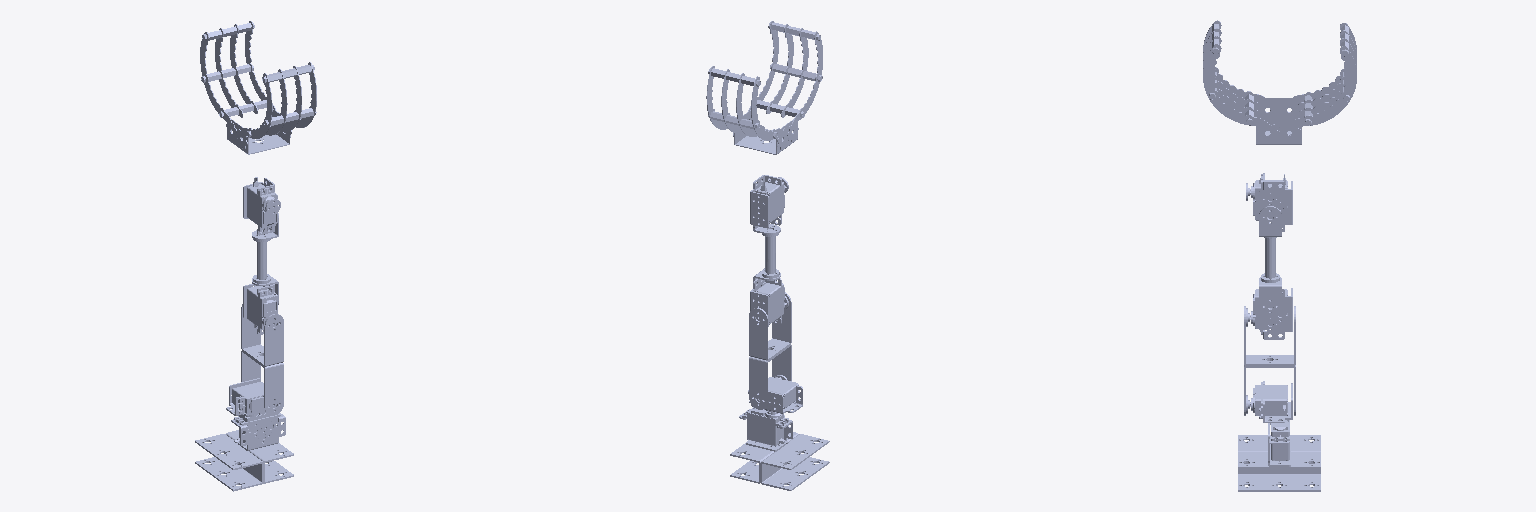
URDF robot description (reclaim_arm):
<?xml version="1.0" encoding="utf-8"?>
<!-- This URDF was automatically created by SolidWorks to URDF Exporter! Originally created by Stephen Brawner (brawner@gmail.com) 
     Commit Version: 1.6.0-4-g7f85cfe  Build Version: 1.6.7995.38578
     For more information, please see http://wiki.ros.org/sw_urdf_exporter -->
<robot
  name="reclaim_arm">
  <link
    name="base_link">
    <inertial>
      <origin
        xyz="0.00060581 -0.001246 -0.046464"
        rpy="0 0 0" />
      <mass
        value="0.07337" />
      <inertia
        ixx="3.2568E-05"
        ixy="5.8892E-09"
        ixz="3.9477E-08"
        iyy="1.9034E-05"
        iyz="1.6679E-07"
        izz="3.754E-05" />
    </inertial>
    <visual>
      <origin
        xyz="0 0 0"
        rpy="-1.5708 0 0" />
      <geometry>
        <mesh
          filename="package://reclaim_arm_moveit_config/meshes/base_link.STL" />
      </geometry>
      <material
        name="">
        <color
          rgba="0.79216 0.81961 0.93333 1" />
      </material>
    </visual>
    <collision>
      <origin
        xyz="0 0 0"
        rpy="-1.5708 0 0" />
      <geometry>
        <mesh
          filename="package://reclaim_arm_moveit_config/meshes/base_link.STL" />
      </geometry>
    </collision>
  </link>
  <link
    name="shoulder_link">
    <inertial>
      <origin
        xyz="0.00046002 -0.0098996 0.01241"
        rpy="0 0 0" />
      <mass
        value="0.037034" />
      <inertia
        ixx="2.9036E-06"
        ixy="3.9477E-08"
        ixz="-8.9959E-13"
        iyy="6.9967E-06"
        iyz="-1.6679E-07"
        izz="7.2467E-06" />
    </inertial>
    <visual>
      <origin
        xyz="0 0 0"
        rpy="0 0 0" />
      <geometry>
        <mesh
          filename="package://reclaim_arm_moveit_config/meshes/shoulder_link.STL" />
      </geometry>
      <material
        name="">
        <color
          rgba="0.79216 0.81961 0.93333 1" />
      </material>
    </visual>
    <collision>
      <origin
        xyz="0 0 0"
        rpy="0 0 0" />
      <geometry>
        <mesh
          filename="package://reclaim_arm_moveit_config/meshes/shoulder_link.STL" />
      </geometry>
    </collision>
  </link>
  <joint
    name="base_joint"
    type="revolute">
    <origin
      xyz="0 0 0"
      rpy="0 0 0" />
    <parent
      link="base_link" />
    <child
      link="shoulder_link" />
    <axis
      xyz="0 0 1" />
    <limit
      lower="-1.953"
      upper="3.230"
      effort="10"
      velocity="2" />
  </joint>
  <link
    name="upper_arm_link">
    <inertial>
      <origin
        xyz="1.3297E-14 -0.011444 0.052"
        rpy="0 0 0" />
      <mass
        value="0.016627" />
      <inertia
        ixx="1.6412E-05"
        ixy="1.486E-19"
        ixz="-6.5645E-21"
        iyy="7.5576E-06"
        iyz="-3.0563E-21"
        izz="1.0611E-05" />
    </inertial>
    <visual>
      <origin
        xyz="0 0 0"
        rpy="0 0 0" />
      <geometry>
        <mesh
          filename="package://reclaim_arm_moveit_config/meshes/upper_arm_link.STL" />
      </geometry>
      <material
        name="">
        <color
          rgba="0.79216 0.81961 0.93333 1" />
      </material>
    </visual>
    <collision>
      <origin
        xyz="0 0 0"
        rpy="0 0 0" />
      <geometry>
        <mesh
          filename="package://reclaim_arm_moveit_config/meshes/upper_arm_link.STL" />
      </geometry>
    </collision>
  </link>
  <joint
    name="shoulder_joint"
    type="revolute">
    <origin
      xyz="0.01 0 0.013402"
      rpy="0 0 0" />
    <parent
      link="shoulder_link" />
    <child
      link="upper_arm_link" />
    <axis
      xyz="0 -1 0" />
    <limit
      lower="-2.073"
      upper="1.597"
      effort="15"
      velocity="2" />
  </joint>
  <link
    name="forearm_link">
    <inertial>
      <origin
        xyz="0.0013458 -0.010048 0.074887"
        rpy="0 0 0" />
      <mass
        value="0.087067" />
      <inertia
        ixx="1.827E-05"
        ixy="3.3358E-07"
        ixz="1.6198E-12"
        iyy="1.7804E-05"
        iyz="7.3166E-16"
        izz="6.5989E-06" />
    </inertial>
    <visual>
      <origin
        xyz="0 0 0"
        rpy="0 0 0" />
      <geometry>
        <mesh
          filename="package://reclaim_arm_moveit_config/meshes/forearm_link.STL" />
      </geometry>
      <material
        name="">
        <color
          rgba="0.79216 0.81961 0.93333 1" />
      </material>
    </visual>
    <collision>
      <origin
        xyz="0 0 0"
        rpy="0 0 0" />
      <geometry>
        <mesh
          filename="package://reclaim_arm_moveit_config/meshes/forearm_link.STL" />
      </geometry>
    </collision>
  </link>
  <joint
    name="elbow_joint"
    type="revolute">
    <origin
      xyz="0 0 0.104"
      rpy="0 0 0" />
    <parent
      link="upper_arm_link" />
    <child
      link="forearm_link" />
    <axis
      xyz="0 1 0" />
    <limit
      lower="-1.508"
      upper="2.497"
      effort="10"
      velocity="2" />
  </joint>
  <link
    name="wrist_pitch_link">
    <inertial>
      <origin
        xyz="-0.024668 -0.011695 0.043013"
        rpy="0 0 0" />
      <mass
        value="0.10081" />
      <inertia
        ixx="5.5279E-05"
        ixy="-1.5687E-07"
        ixz="3.235E-09"
        iyy="2.0779E-05"
        iyz="-5.646E-08"
        izz="6.76E-05" />
    </inertial>
    <visual>
      <origin
        xyz="0 0 0"
        rpy="0 0 0" />
      <geometry>
        <mesh
          filename="package://reclaim_arm_moveit_config/meshes/wrist_pitch_link.STL" />
      </geometry>
      <material
        name="">
        <color
          rgba="0.79216 0.81961 0.93333 1" />
      </material>
    </visual>
    <collision>
      <origin
        xyz="0 0 0"
        rpy="0 0 0" />
      <geometry>
        <mesh
          filename="package://reclaim_arm_moveit_config/meshes/wrist_pitch_link.STL" />
      </geometry>
    </collision>
  </link>
  <joint
    name="wrist_pitch_joint"
    type="revolute">
    <origin
      xyz="0 0 0.15032"
      rpy="0 0 0" />
    <parent
      link="forearm_link" />
    <child
      link="wrist_pitch_link" />
    <axis
      xyz="0 -1 0" />
    <limit
      lower="-1.932"
      upper="0.872"
      effort="10"
      velocity="2" />
  </joint>
  <link
    name="tool0">
    <inertial>
      <origin
        xyz="0.010754 -0.0010765 0.39245"
        rpy="0 0 0" />
      <mass
        value="0.037311" />
      <inertia
        ixx="2.0211E-05"
        ixy="-2.8835E-08"
        ixz="1.8401E-08"
        iyy="1.638E-05"
        iyz="-1.2682E-07"
        izz="1.1617E-05" />
    </inertial>
    <visual>
      <origin
        xyz="-0.01 0 -0.45672"
        rpy="0 0 0" />
      <geometry>
        <mesh
          filename="package://reclaim_arm_moveit_config/meshes/tool0.STL" />
      </geometry>
      <material
        name="">
        <color
          rgba="0.79216 0.81961 0.93333 1" />
      </material>
    </visual>
    <collision>
      <origin
        xyz="-0.01 0 -0.45672"
        rpy="0 0 0" />
      <geometry>
        <mesh
          filename="package://reclaim_arm_moveit_config/meshes/tool0.STL" />
      </geometry>
    </collision>
  </link>
  <joint
    name="wrist_to_tool0"
    type="fixed">
    <origin
      xyz="0 0 0.189"
      rpy="0 0 0" />
    <parent
      link="wrist_pitch_link" />
    <child
      link="tool0" />
    <axis
      xyz="0 0 0" />
  </joint>
  <!-- ══════════════════════════════════════════════════ -->
  <!-- ros2_control: Servo Hardware Interface            -->
  <!-- Calibration from March 19, 2026                   -->
  <!-- ══════════════════════════════════════════════════ -->
  <ros2_control name="servo_hardware" type="system">
    <hardware>
      <plugin>reclaim_servo_hardware/ServoHardwareInterface</plugin>
      <param name="serial_port">/tmp/teensy_arm</param>
      <param name="baud_rate">115200</param>
    </hardware>

    <!-- J1 Base — DS3218 270° — not inverted -->
    <joint name="base_joint">
      <command_interface name="position"/>
      <state_interface name="position"/>
      <param name="zero_us">1229</param>
      <param name="scale">0.002356</param>
      <param name="inverted">false</param>
      <param name="min_us">400</param>
      <param name="max_us">2600</param>
    </joint>

    <!-- J2 Shoulder — DS3240 270° — not inverted (axis 0 -1 0) -->
    <joint name="shoulder_joint">
      <command_interface name="position"/>
      <state_interface name="position"/>
      <param name="zero_us">1673</param>
      <param name="scale">0.002356</param>
      <param name="inverted">false</param>
      <param name="min_us">995</param>
      <param name="max_us">2553</param>
    </joint>

    <!-- J3 Elbow — DS3218 270° — not inverted -->
    <joint name="elbow_joint">
      <command_interface name="position"/>
      <state_interface name="position"/>
      <param name="zero_us">1320</param>
      <param name="scale">0.002356</param>
      <param name="inverted">false</param>
      <param name="min_us">680</param>
      <param name="max_us">2380</param>
    </joint>

    <!-- J4 Wrist Pitch — DS3218 270° — not inverted (axis 0 -1 0) -->
    <joint name="wrist_pitch_joint">
      <command_interface name="position"/>
      <state_interface name="position"/>
      <param name="zero_us">2230</param>
      <param name="scale">0.002356</param>
      <param name="inverted">false</param>
      <param name="min_us">1410</param>
      <param name="max_us">2600</param>
    </joint>
  </ros2_control>

</robot>

--- Facts derived from the render (not from the file) ---
3 views of the same robot in one strip: view 1: azimuth 30°, elevation 25°; view 2: azimuth 150°, elevation 25°; view 3: azimuth 270°, elevation 25° (orthographic).
Model reclaim_arm with 6 links and 5 joints (4 revolute, 1 fixed), rooted at base_link, posed every joint at zero.
Links seen in each view (by area): view 1: tool0, base_link, forearm_link, upper_arm_link, shoulder_link; view 2: tool0, base_link, forearm_link, upper_arm_link, shoulder_link; view 3: tool0, base_link, forearm_link, shoulder_link, upper_arm_link.
Link boxes in pixels (box(x1,y1,x2,y2)): tool0: box(200, 21, 316, 154); base_link: box(195, 412, 293, 491); forearm_link: box(243, 177, 280, 334); upper_arm_link: box(241, 304, 283, 415); shoulder_link: box(226, 378, 279, 415); tool0: box(706, 21, 822, 154); base_link: box(730, 407, 829, 490); forearm_link: box(750, 175, 788, 326); upper_arm_link: box(749, 292, 791, 409); shoulder_link: box(748, 375, 802, 413); tool0: box(1203, 20, 1356, 144); base_link: box(1238, 420, 1320, 491); forearm_link: box(1246, 173, 1292, 339); shoulder_link: box(1246, 381, 1292, 422); upper_arm_link: box(1244, 306, 1295, 415).
Bounding box of the posed robot: 0.094 × 0.1675 × 0.5395 m (x, y, z).
5 mesh visuals loaded from 6 distinct referenced files (5 binary STL); not drawn: 1 (reference not matched to a file when rendering).
